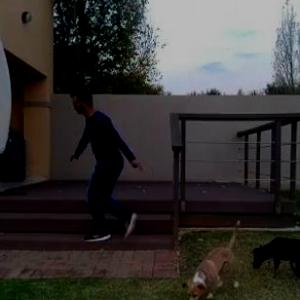land: (62, 79, 182, 254)
